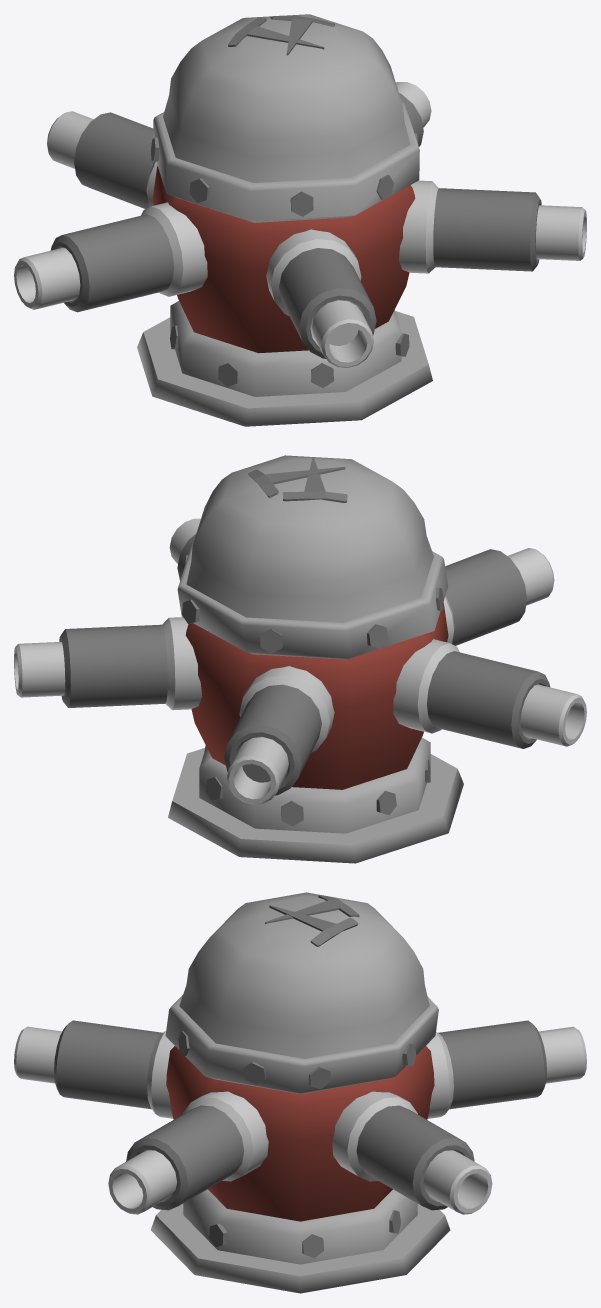
The model's file is Fire.fbx.
The picture shows the model from 3 angles, top to bottom: view 1: azimuth 30°, elevation 25°; view 2: azimuth 150°, elevation 25°; view 3: azimuth 270°, elevation 25°; orthographic projection. The views are drawn at different scales.
Parts seen in each view (by area): view 1: Fire, Firing_Tip_4, Firing_Tip_1, Firing_Tip_5, Firing_Tip_3, Firing_Tip_2; view 2: Fire, Firing_Tip_4, Firing_Tip_2, Firing_Tip_3, Firing_Tip_5, Firing_Tip_1; view 3: Fire, Firing_Tip_1, Firing_Tip_2, Firing_Tip_3, Firing_Tip_5.
Part boxes in pixels (bbox=[...]): Fire: bbox=[137, 14, 432, 426]; Firing_Tip_4: bbox=[14, 202, 207, 312]; Firing_Tip_1: bbox=[398, 180, 586, 273]; Firing_Tip_5: bbox=[266, 229, 376, 367]; Firing_Tip_3: bbox=[47, 111, 157, 208]; Firing_Tip_2: bbox=[396, 82, 431, 146]; Fire: bbox=[168, 455, 463, 863]; Firing_Tip_4: bbox=[393, 639, 586, 748]; Firing_Tip_2: bbox=[14, 617, 202, 710]; Firing_Tip_3: bbox=[224, 666, 334, 804]; Firing_Tip_5: bbox=[443, 548, 554, 645]; Firing_Tip_1: bbox=[169, 518, 200, 580]; Fire: bbox=[151, 892, 450, 1293]; Firing_Tip_1: bbox=[108, 1091, 268, 1214]; Firing_Tip_2: bbox=[332, 1091, 492, 1214]; Firing_Tip_3: bbox=[426, 1020, 586, 1118]; Firing_Tip_5: bbox=[14, 1020, 174, 1118].
Size of the model in its own units: 295 by 190 by 310.
